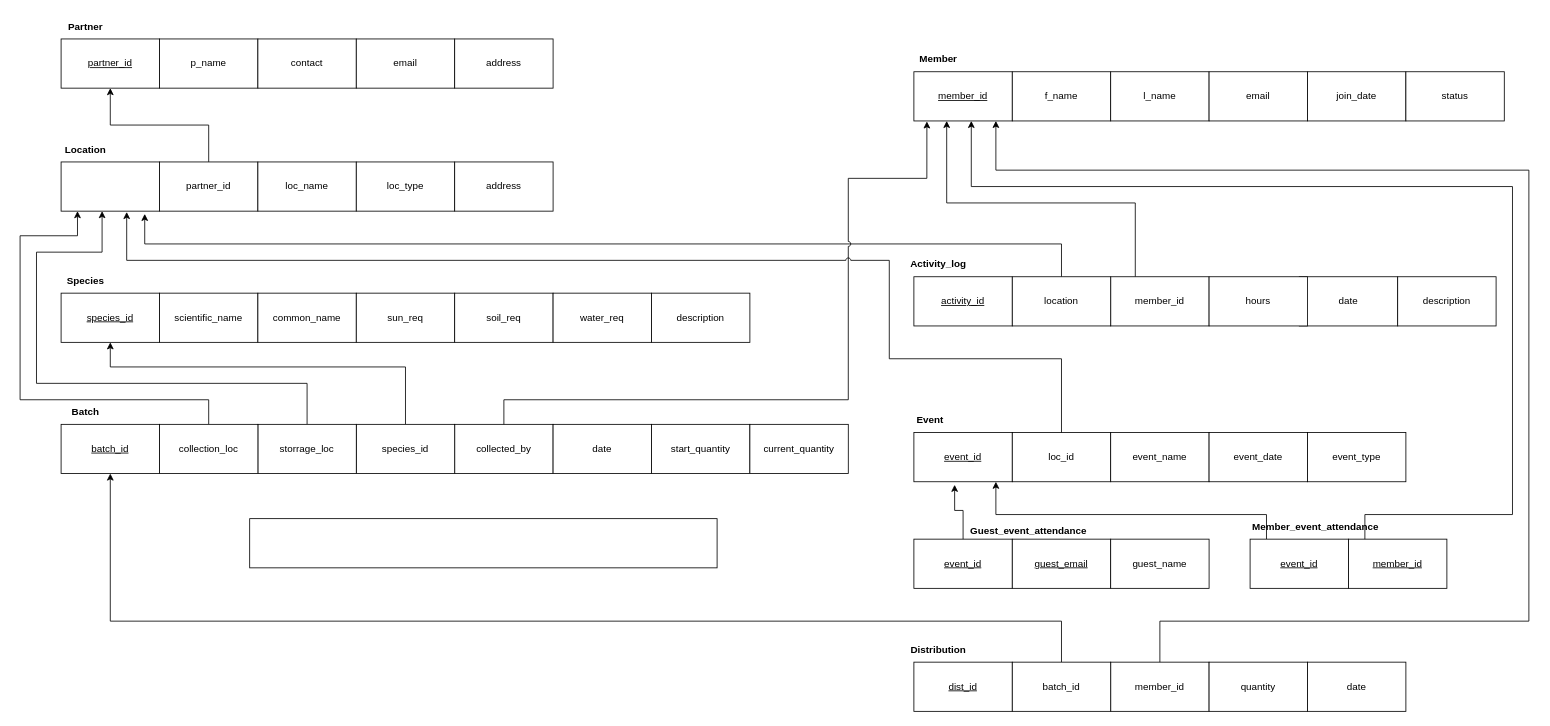
Image size: 1550x726. Some labels were removed from this diagram. The shapes that lost their labels are listed below. From the top down, each one's centre as x and y in pixels, then its label:
At (109,186): "location_id".
At (483,543): "Saginaw Valley Seedbank - ER Diagram".
